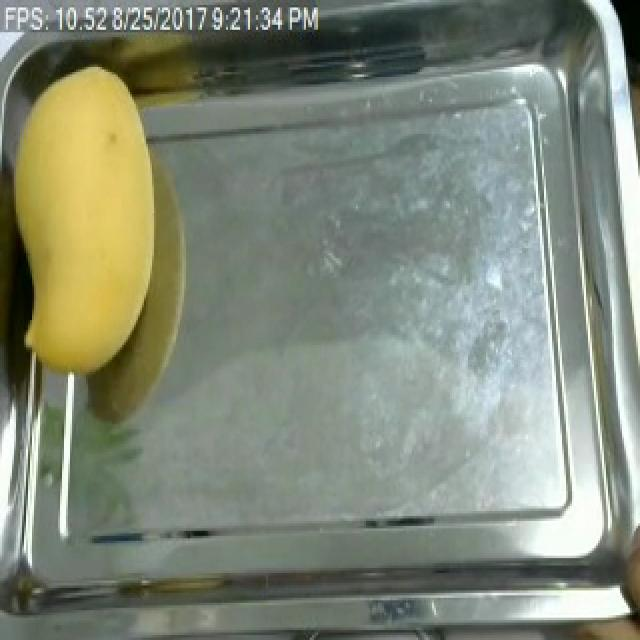fruit: (2, 50, 180, 392)
